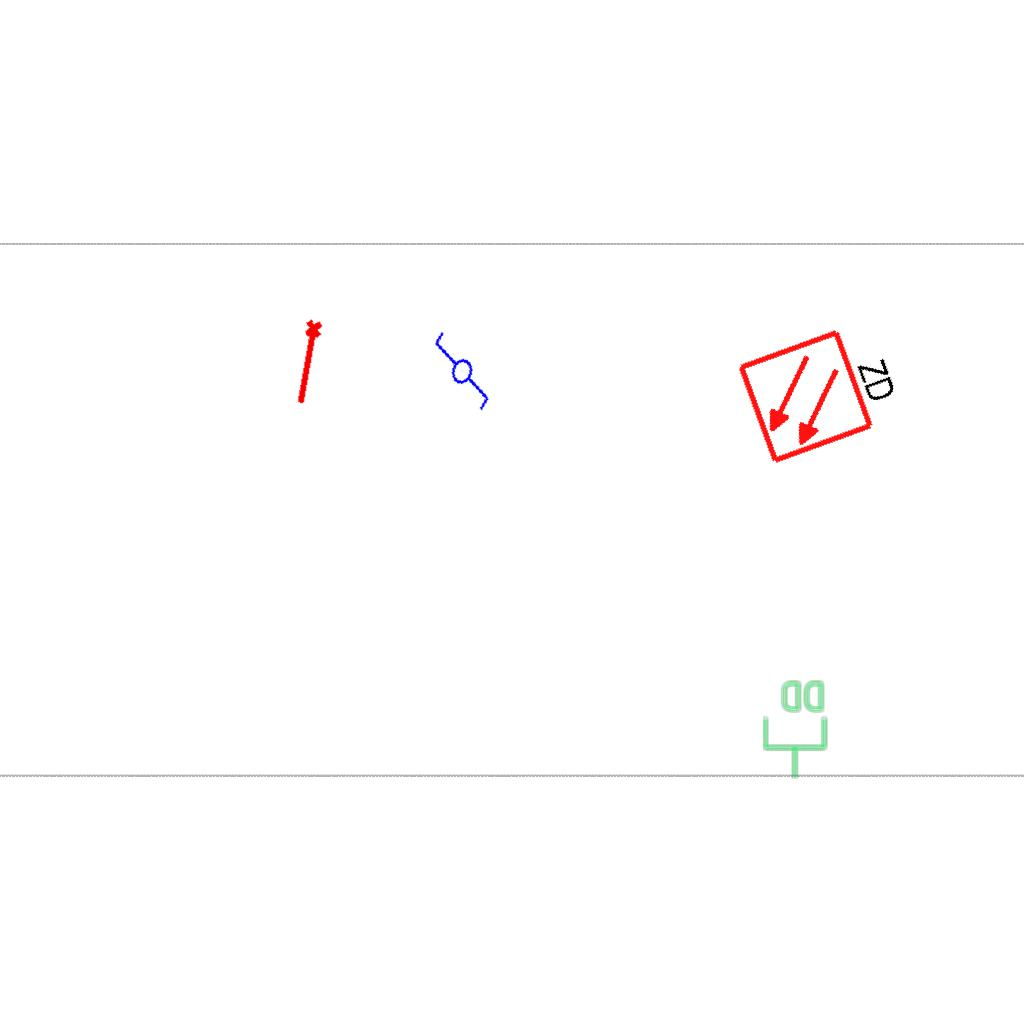ASR_Ansaugoeffnung: (290, 317, 328, 408)
Datenanschluss_zweifach: (761, 678, 830, 781)
Wechselschalter: (415, 328, 505, 422)
ZD_Melder_in_Zwischendecke_mit_Revisionsoeffnung_mind_40_x_40_cm: (733, 309, 913, 468)
